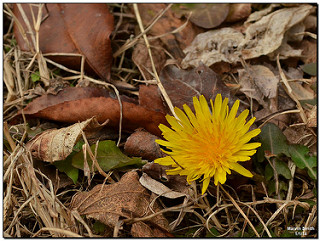dandelion yellow: (153, 93, 262, 194)
